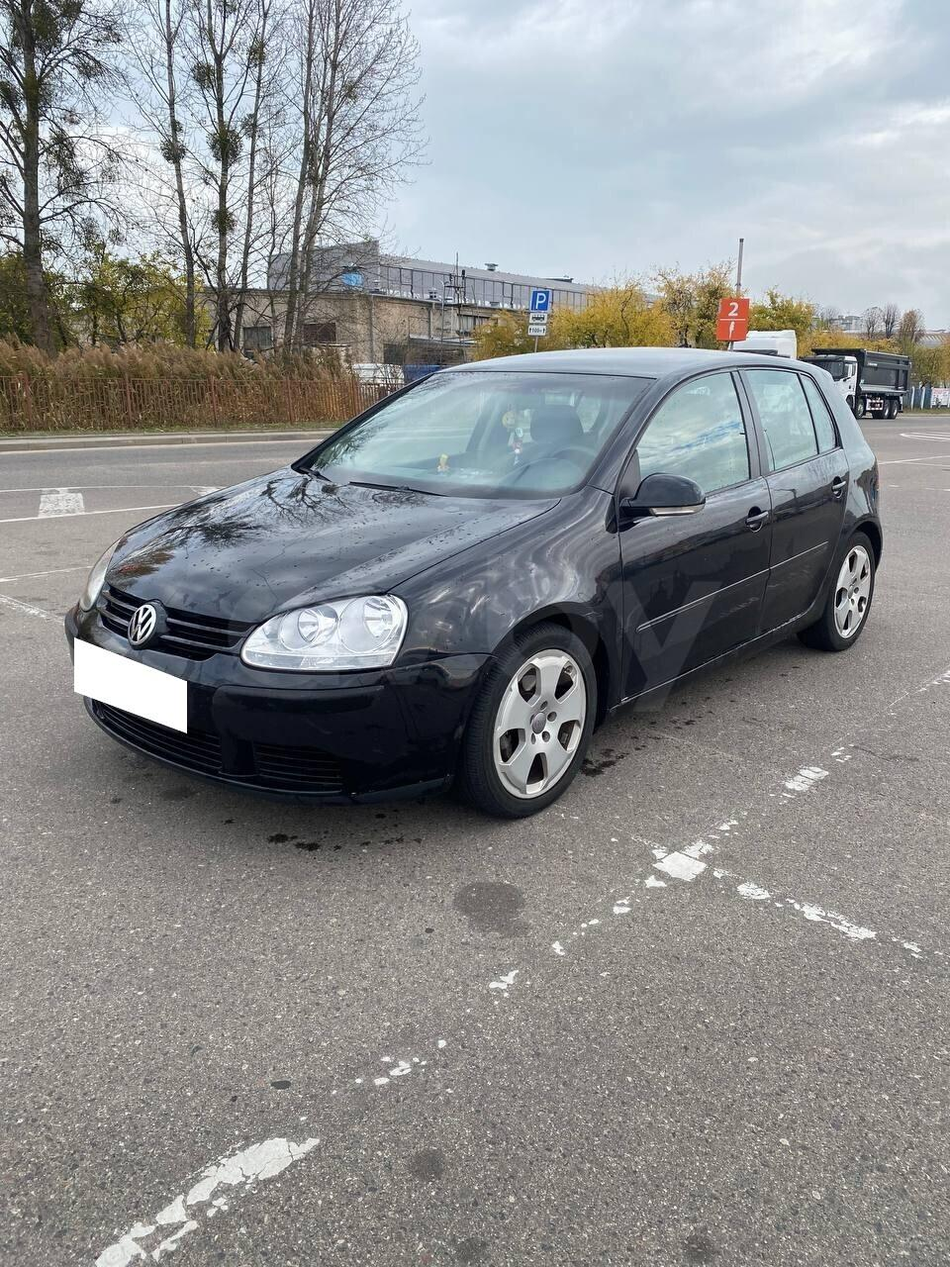Golf_2003-2009: (59, 335, 885, 823)
